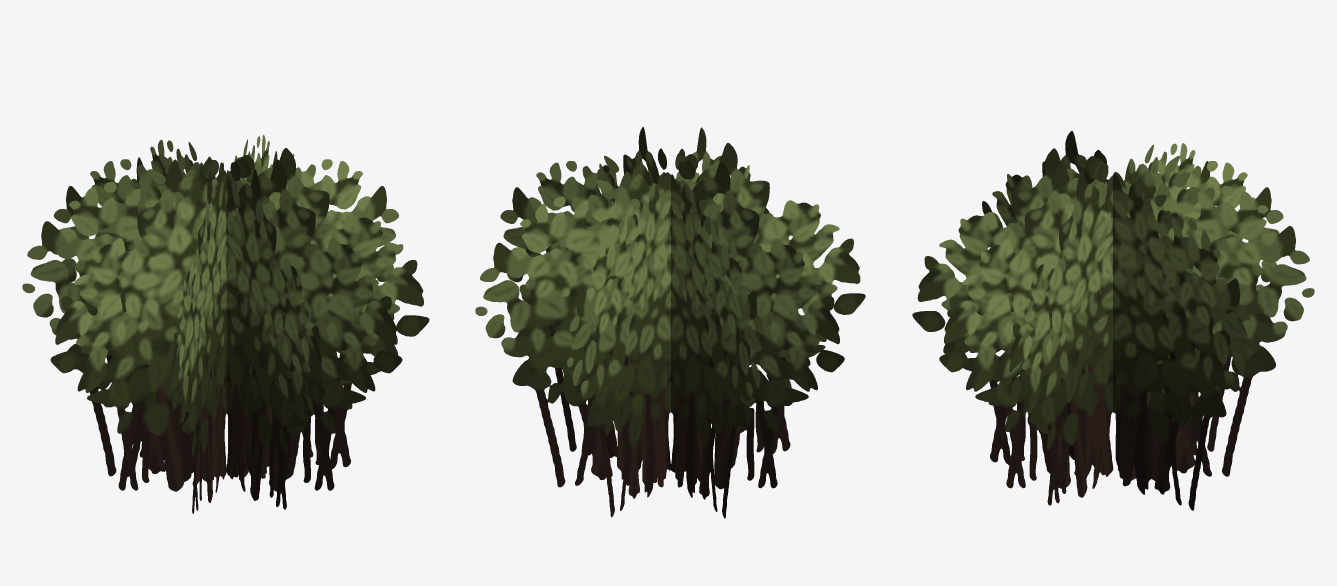
Rendered from ARC0710055.fbx.
3 renders of one model, left to right at view 1: azimuth 30°, elevation 25°; view 2: azimuth 150°, elevation 25°; view 3: azimuth 270°, elevation 25°, orthographic.
Parts seen in each view (by area): view 1: smARC0710055; view 2: smARC0710055; view 3: smARC0710055.
Part boxes in pixels (<box>): smARC0710055: <box>22,135,429,513</box>; smARC0710055: <box>475,127,865,518</box>; smARC0710055: <box>912,131,1314,510</box>.
Size of the model in its own units: 56.7 by 56.7 by 56.69.
Materials: 1 (1 with a texture image).
